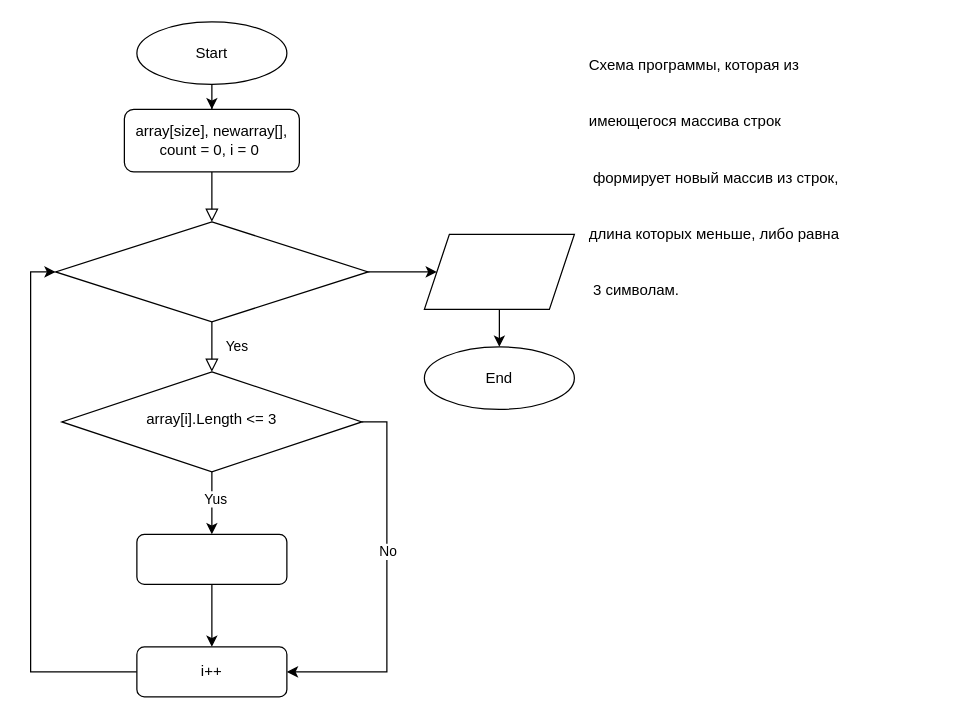
This 959x719 diagram has some shape labels left out. Each missing label, with the centre of its shape:
i < arrayLength: (x=211, y=271)
newarray: (x=498, y=271)
newarray[count] = array [i], count++: (x=211, y=558)
